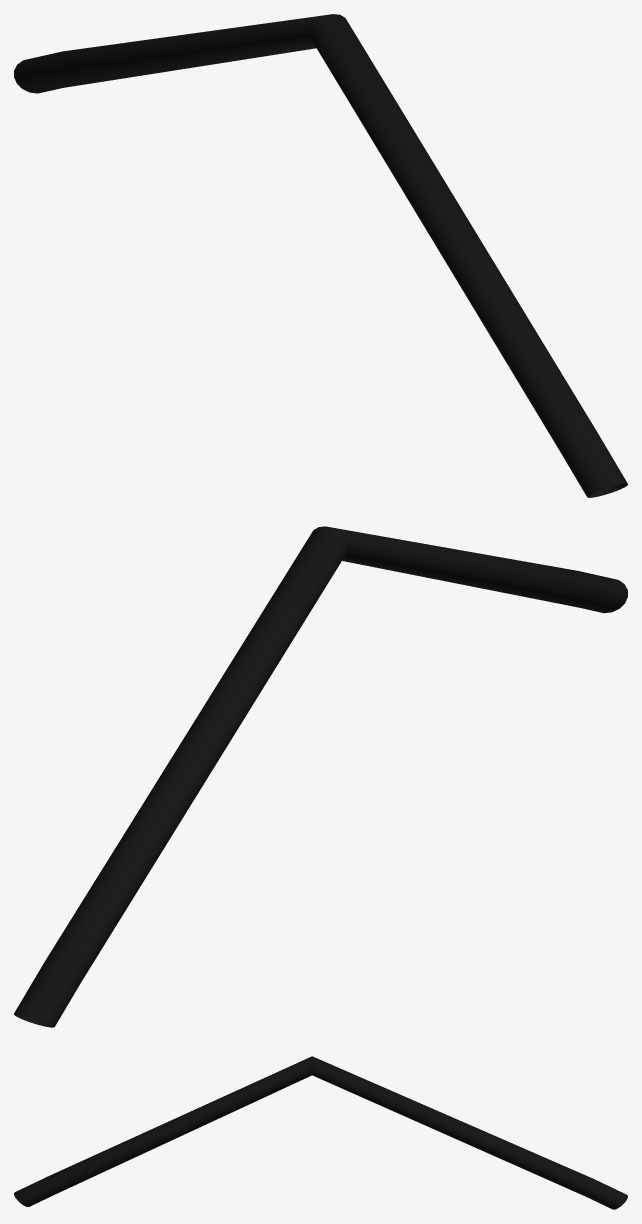
Rendered from Corda_MESH.fbx.
3 views of the same model, one above another, from view 1: azimuth 30°, elevation 25°; view 2: azimuth 150°, elevation 25°; view 3: azimuth 270°, elevation 25° (orthographic). The views are drawn at different scales.
Visible parts, largest first — view 1: Corda_MESH; view 2: Corda_MESH; view 3: Corda_MESH.
Boxes of the visible parts, box(x1,y1,x2,y2) form: Corda_MESH: box(14, 14, 627, 497); Corda_MESH: box(14, 526, 627, 1027); Corda_MESH: box(14, 1056, 627, 1209).
Size of the model in its own units: 0.1906 by 1.4 by 5.17.
Materials: 1 (1 with a texture image).
